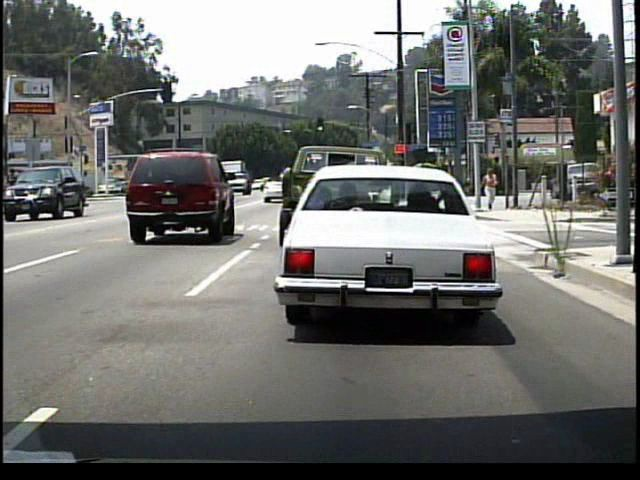person: (482, 166, 499, 212)
